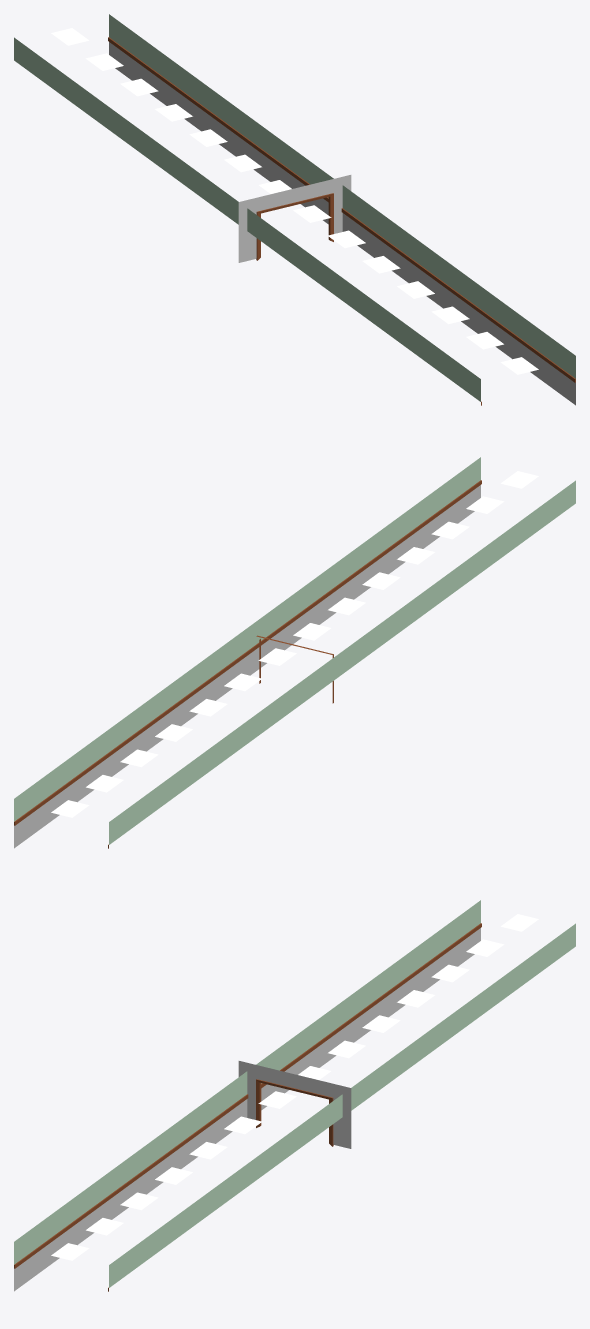
The model's file is hospital-corridor.glb.
3 views of the same model, one above another, from view 1: azimuth 30°, elevation 25°; view 2: azimuth 150°, elevation 25°; view 3: azimuth 330°, elevation 25° (orthographic).
Parts seen in each view (by area): view 1: Corridor; view 2: Corridor; view 3: Corridor.
Part boxes in pixels (x1,y1,x2,y2): Corridor: (14, 14, 575, 405); Corridor: (14, 457, 575, 848); Corridor: (14, 900, 575, 1291).
Bounding box in the file's own units: 4.74 × 2.52 × 33.99.
